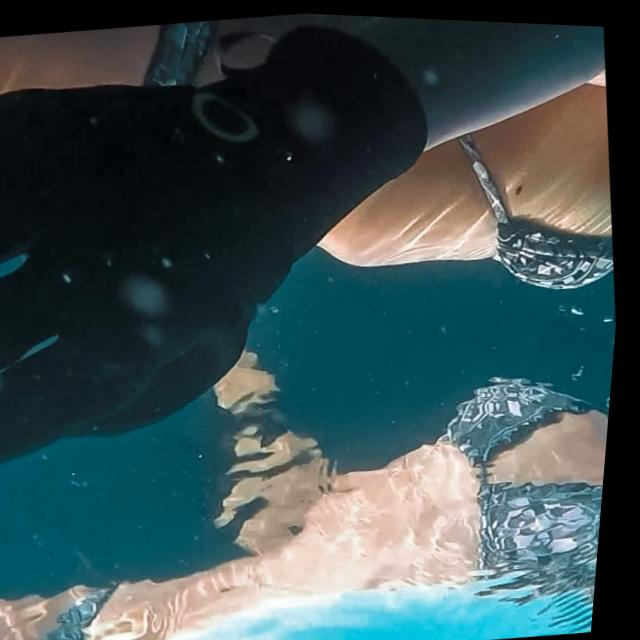human: (0, 0, 640, 510)
